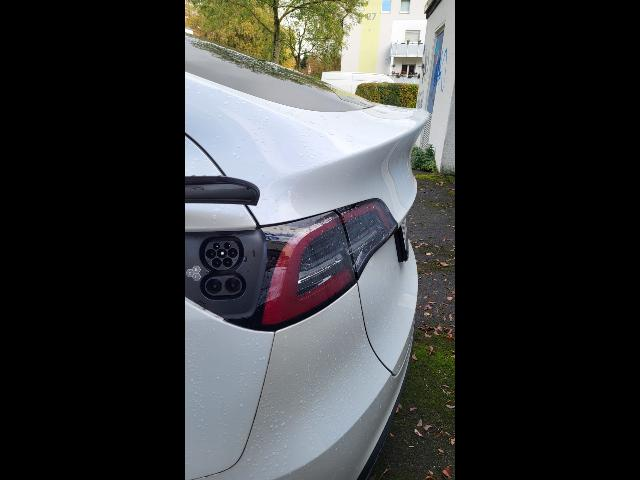inlet: (205, 241, 239, 270)
inlet-above-left: (213, 243, 220, 249)
inlet-above-right: (224, 242, 231, 249)
inlet-below-left: (212, 258, 222, 268)
inlet-below-right: (222, 257, 233, 267)
inlet-circle: (217, 248, 227, 258)
inlet-circle-left: (206, 249, 216, 258)
inlet-circle-right: (228, 248, 238, 258)
inlet-minus: (225, 278, 240, 293)
inlet-plus: (206, 279, 222, 294)
